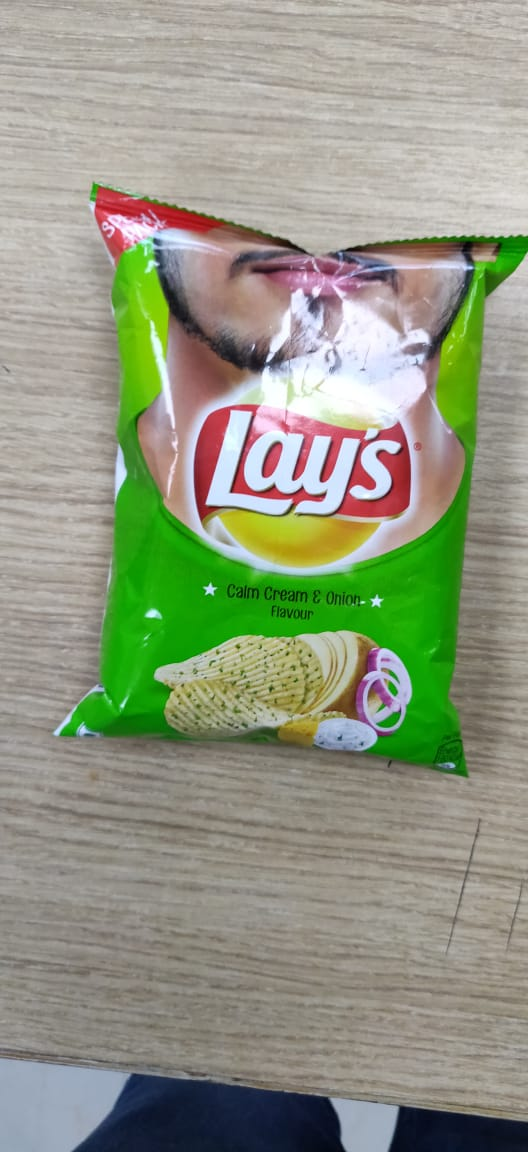lays chips: (68, 139, 528, 783)
